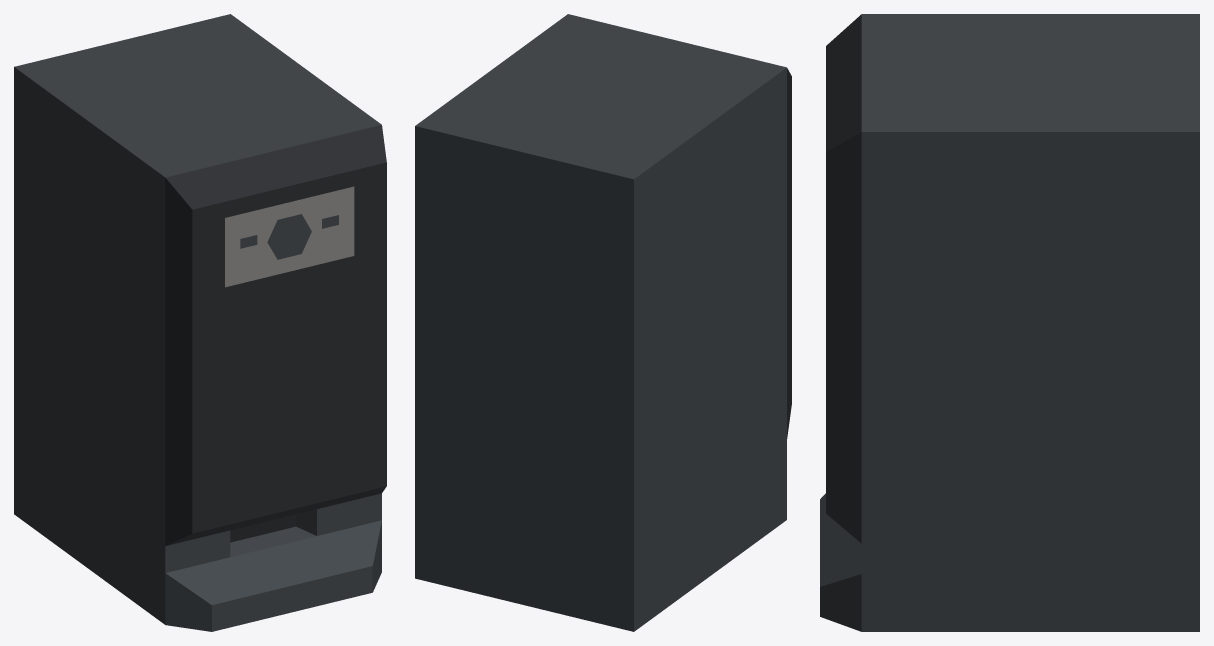
Rendered from SM_Prop_Stereo_Speaker_01.fbx.
3 renders of one model, left to right at view 1: azimuth 30°, elevation 25°; view 2: azimuth 150°, elevation 25°; view 3: azimuth 270°, elevation 25°, orthographic. The views are drawn at different scales.
Visible parts, largest first — view 1: SM_Prop_Stereo_Speaker_01; view 2: SM_Prop_Stereo_Speaker_01; view 3: SM_Prop_Stereo_Speaker_01.
Part boxes in pixels (left/top/right/bottom): SM_Prop_Stereo_Speaker_01: left=14, top=14, right=386, bottom=631; SM_Prop_Stereo_Speaker_01: left=415, top=14, right=791, bottom=631; SM_Prop_Stereo_Speaker_01: left=820, top=14, right=1199, bottom=631.
Size of the model in its own units: 35.43 by 69.97 by 48.16.
